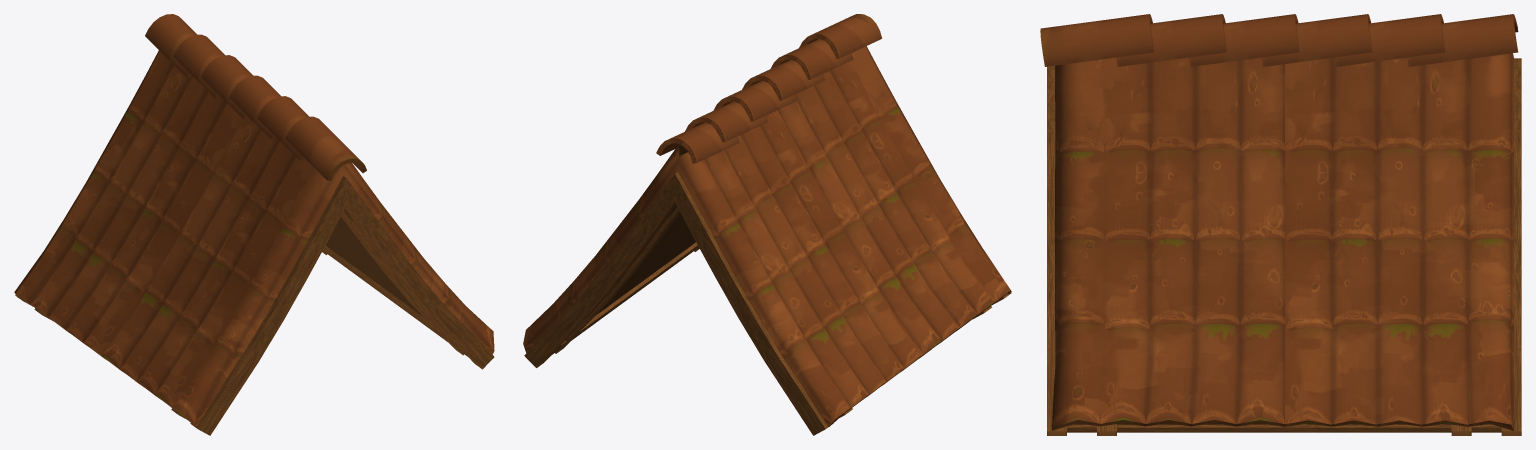
3 renders of one model, left to right at view 1: azimuth 30°, elevation 25°; view 2: azimuth 150°, elevation 25°; view 3: azimuth 270°, elevation 25°, orthographic. The views are drawn at different scales.
Parts seen in each view (by area): view 1: Roof_RoundTiles_4x4; view 2: Roof_RoundTiles_4x4; view 3: Roof_RoundTiles_4x4.
Boxes of the visible parts, left/top/right/bottom form: Roof_RoundTiles_4x4: left=14, top=14, right=494, bottom=435; Roof_RoundTiles_4x4: left=523, top=14, right=1011, bottom=435; Roof_RoundTiles_4x4: left=1040, top=14, right=1521, bottom=435.
Size of the model in its own units: 5.51 by 4.25 by 5.56.
Materials: 2 (2 with a texture image).
